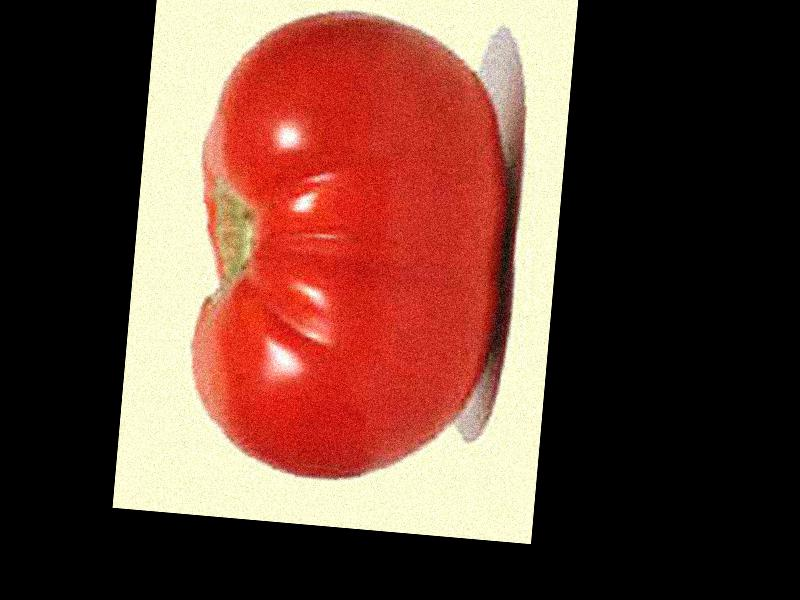Tomato: (175, 1, 520, 493)
